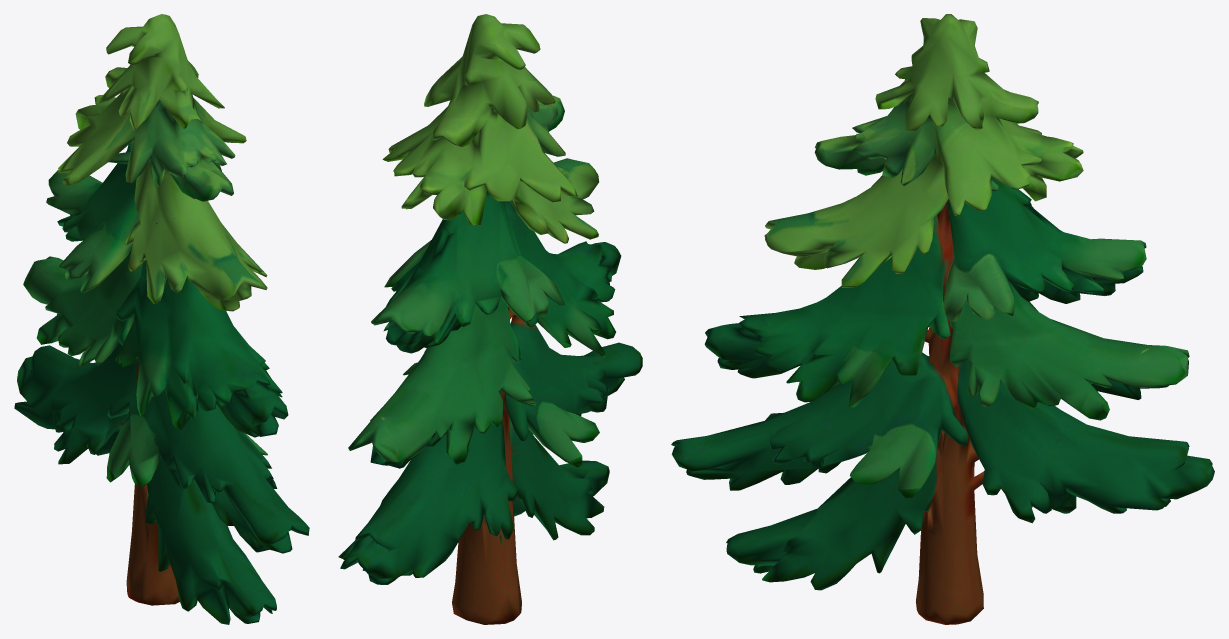
The model's file is prop_tree_pine.glb.
3 views of the same model, side by side, from view 1: azimuth 30°, elevation 25°; view 2: azimuth 150°, elevation 25°; view 3: azimuth 270°, elevation 25° (orthographic). The views are drawn at different scales.
Visible parts, largest first — view 1: tripo_node_f492a5a1-7eee-41a4-b214-2742994443fd; view 2: tripo_node_f492a5a1-7eee-41a4-b214-2742994443fd; view 3: tripo_node_f492a5a1-7eee-41a4-b214-2742994443fd.
Part boxes in pixels (<box>): tripo_node_f492a5a1-7eee-41a4-b214-2742994443fd: <box>14,14,309,624</box>; tripo_node_f492a5a1-7eee-41a4-b214-2742994443fd: <box>338,14,642,624</box>; tripo_node_f492a5a1-7eee-41a4-b214-2742994443fd: <box>671,14,1214,624</box>.
Size of the model in its own units: 0.3288 by 0.9996 by 0.8255.
Materials: 1 (1 with a texture image).
